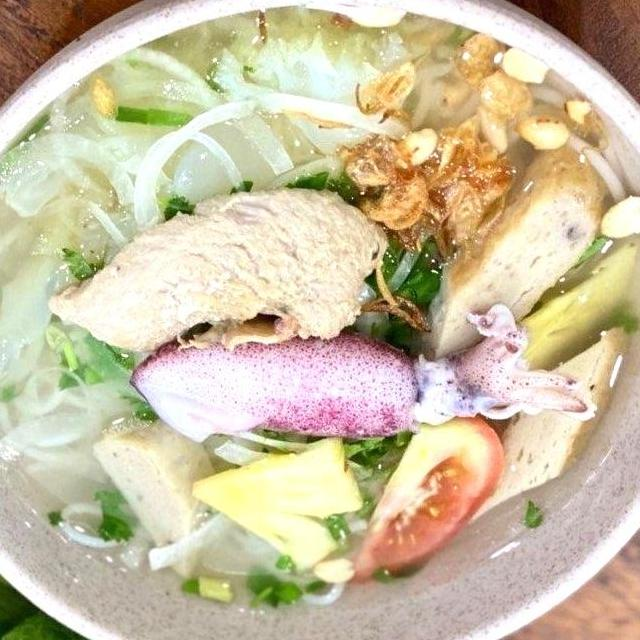muc: (115, 296, 609, 448)
